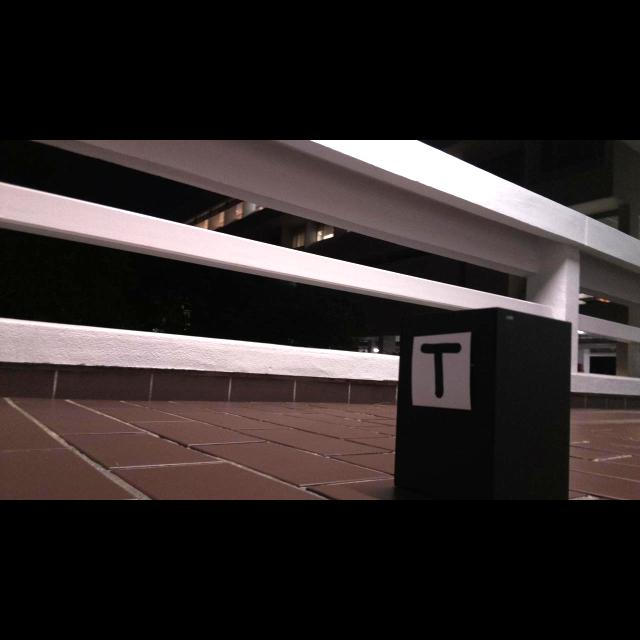T: (420, 343, 462, 398)
